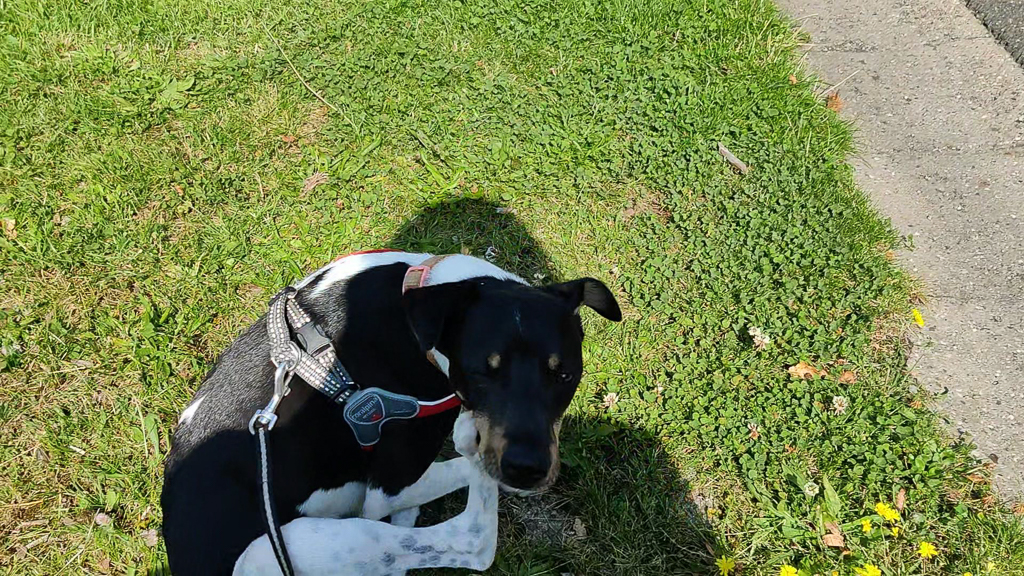Dog: (139, 237, 631, 576)
